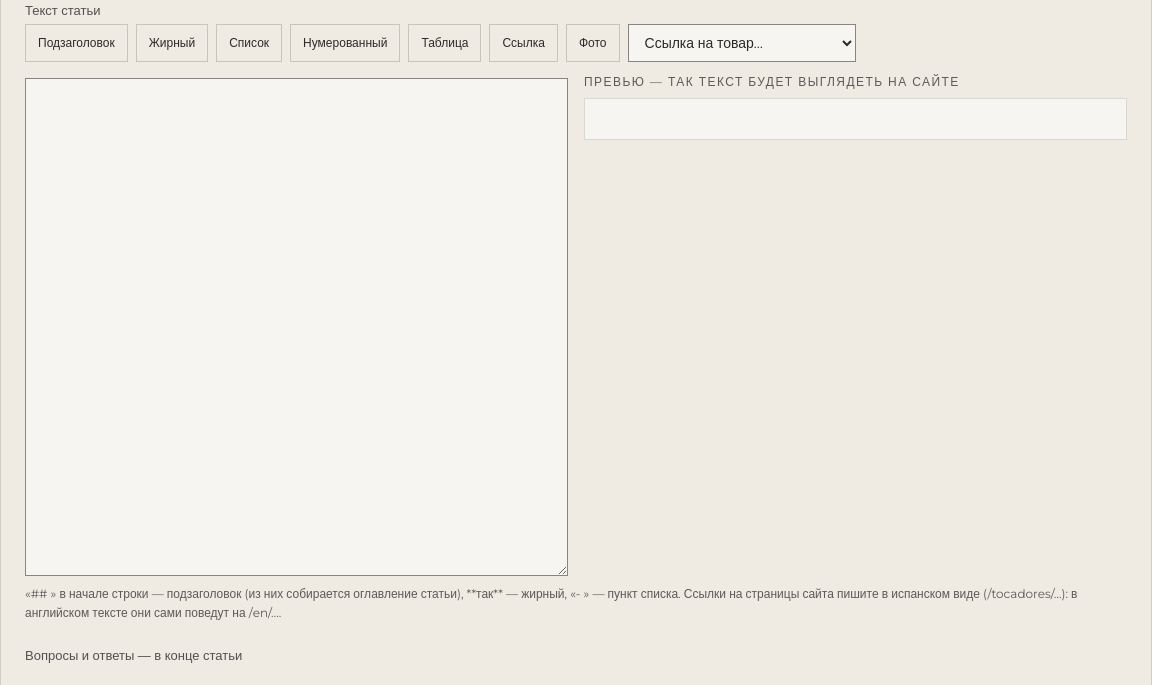
GuideEditor › warns about words on delivery and assembly
(page scrolled)
In the text box labelled "Текст статьи": x=296, y=327 [25, 78, 568, 576], type "El envío y el montaje son gratis."
(page scrolled)
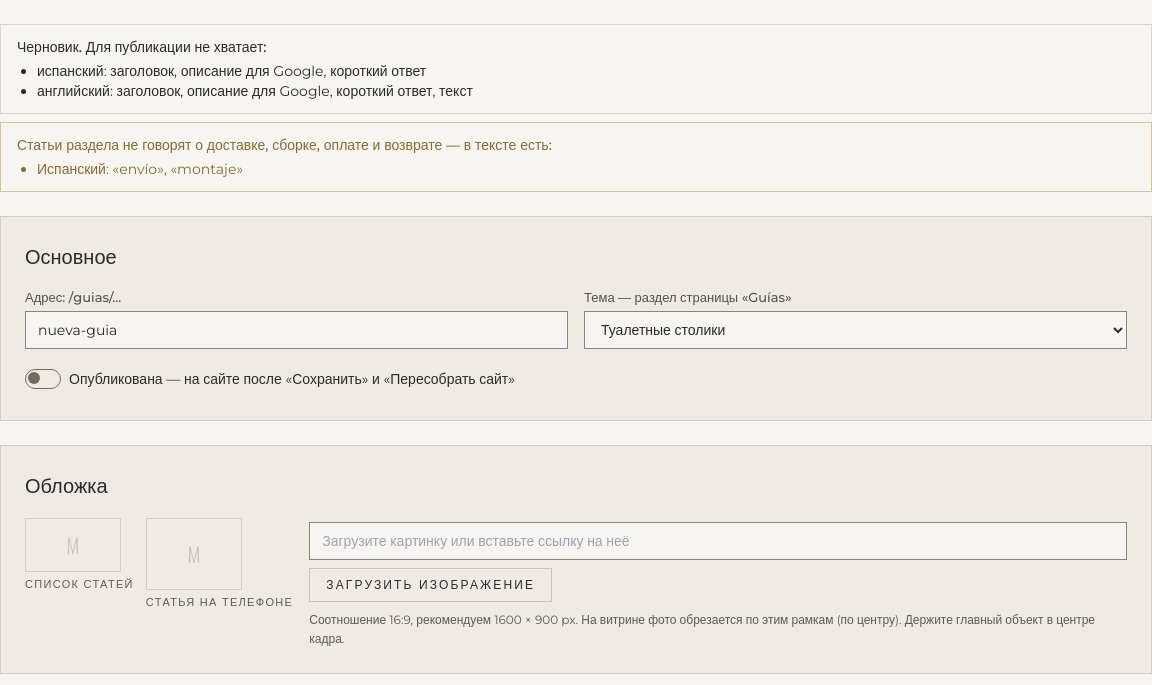
Check: the text "не говорят о доставке" is shown, box [17, 136, 552, 154]
Check: the list item "Испанский: «envío», «montaje»" is shown, box [37, 160, 243, 178]
